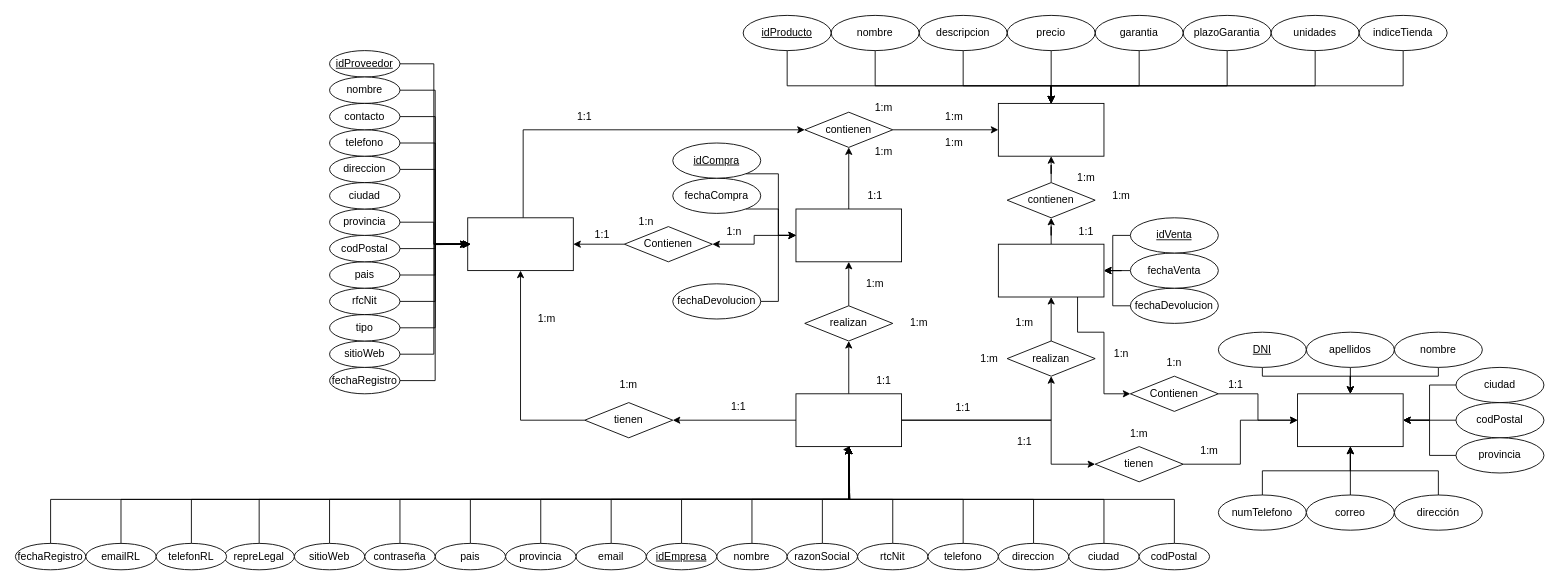
Image size: 1559x585. Some labels were removed from this diagram. Here are the shapes that lost their labels. From the top down, the box of each, then its label:
(997, 103, 1104, 156): Productos
(467, 217, 573, 271): Proveedores
(795, 208, 902, 262): Compras
(997, 243, 1104, 297): Ventas
(795, 393, 902, 447): empresas
(1297, 393, 1403, 447): Clientes
